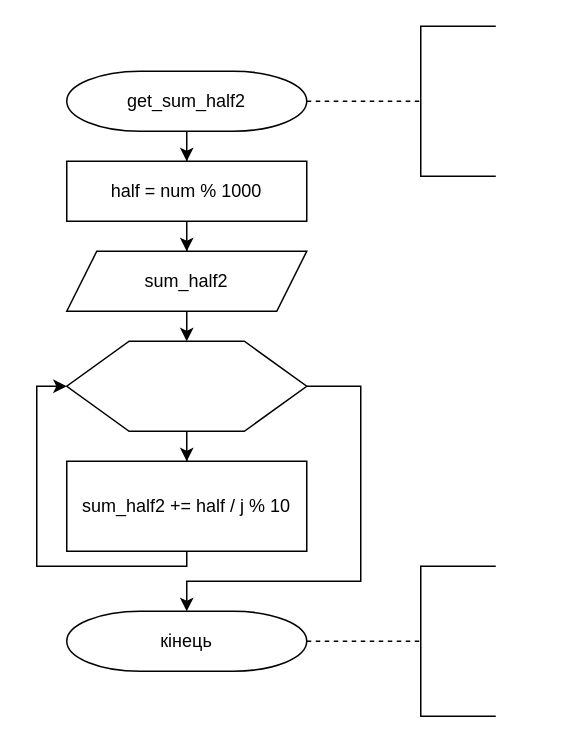
The diagram is 563 pixels wide and 743 high, and some of its shapes have lost their labels. Here are the shapes that lost their labels. From the top down, the box of each, then its label:
(419, 25, 496, 176): Функція приймає задане число
(65, 340, 307, 431): j = 1..(half / j), j * 10
(419, 565, 496, 716): Функція повертає sum_half2
